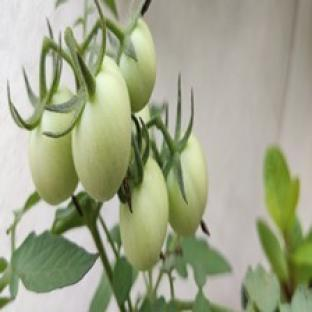Tomato: (73, 56, 130, 201), (120, 158, 168, 270), (28, 111, 77, 204), (168, 134, 207, 235), (120, 19, 155, 111)
